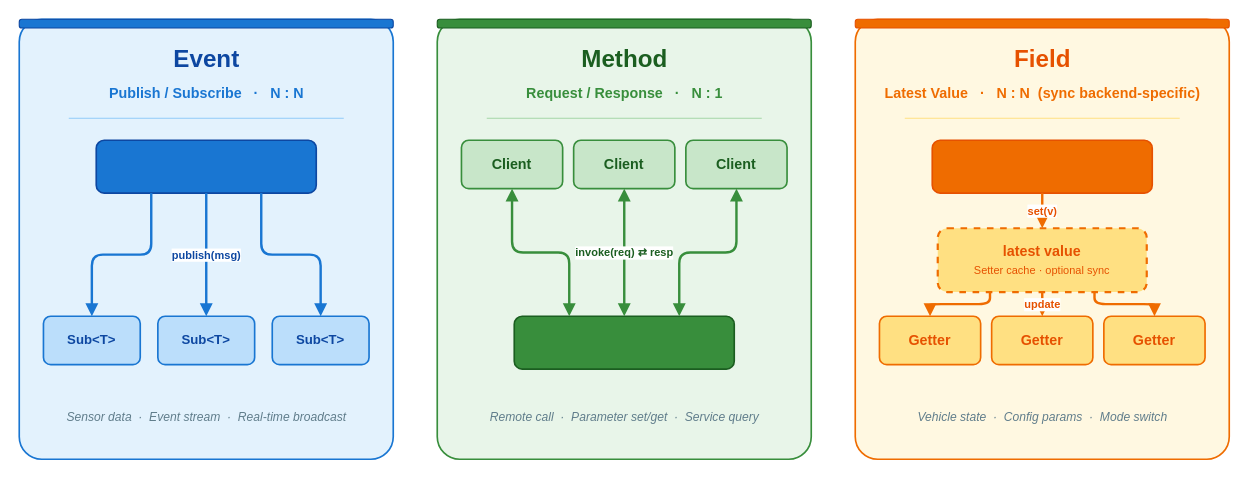
This 1250x480 diagram has some shape labels left out. The box of each missing label's shape, as (x1, y1, x2, y2) in pixels:
Publisher<T>: (95, 139, 317, 193)
Server<Req, Resp>: (513, 315, 735, 369)
Setter<T>: (931, 139, 1153, 193)
